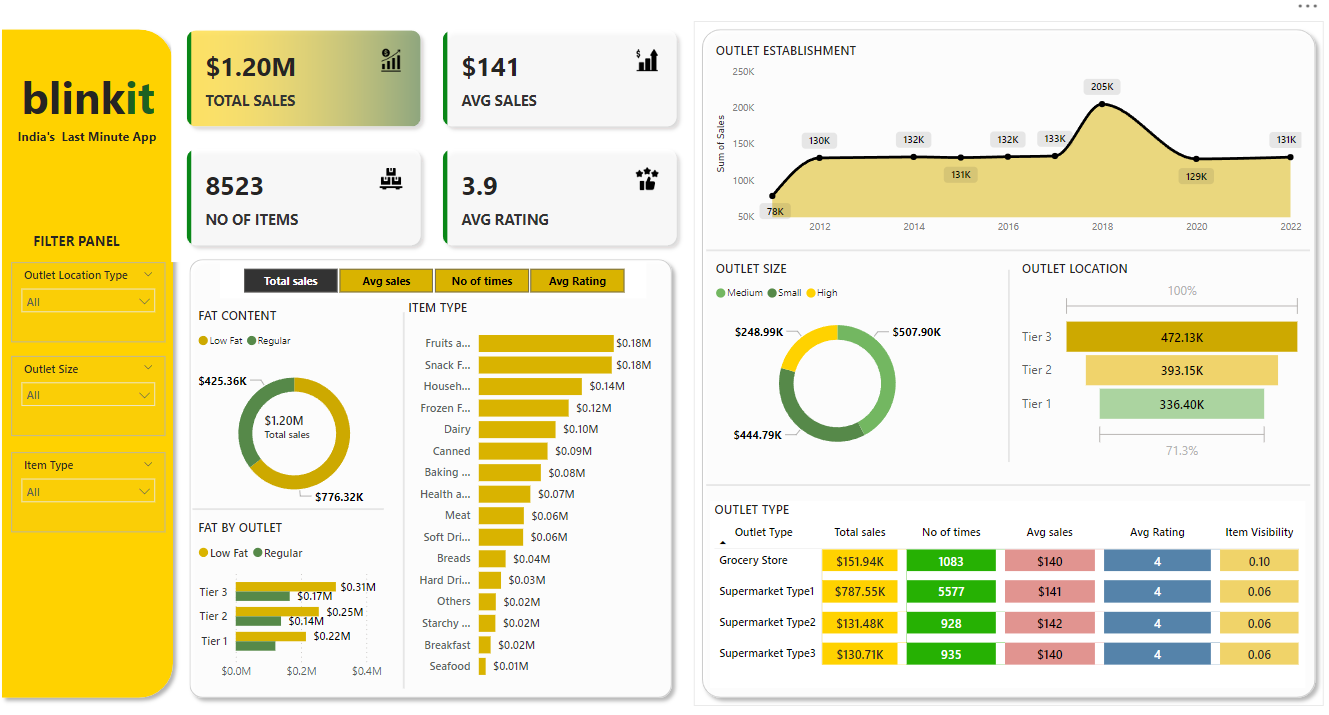

What the dashboard file says about the page in this screenshot:
{"tool":"powerbi","page":{"name":"Page 1","canvas":[1500,800],"ordinal":0},"visuals":[{"type":"shape","box":[36.8,27.3,204.4,746.7],"z":0},{"type":"textbox","box":[55.9,72.2,167.6,81.8],"z":1000},{"type":"textbox","box":[288.9,674.5,204.4,36.8],"z":2000},{"type":"textbox","box":[46.3,139,184,31.3],"z":3000},{"type":"cardVisual","fields":{"Data":["BlinkIT Grocery Data.Total sales","BlinkIT Grocery Data.Avg sales","BlinkIT Grocery Data.No of times","BlinkIT Grocery Data.Avg Rating"]},"box":[230.3,20.4,569.6,269.8],"z":4000},{"type":"shape","box":[241.2,278,543.7,496],"z":5000},{"type":"donutChart","title":"FAT CONTENT","fields":{"Y":["BlinkIT Grocery Data.Total sales"],"Category":["BlinkIT Grocery Data.Item Fat Content"]},"box":[254.8,339.3,219.4,230.3],"z":6000},{"type":"slicer","fields":{"Values":["Metrics.Metrics"]},"box":[283.4,290.2,464.7,39.5],"z":7000},{"type":"cardVisual","fields":{"Data":["BlinkIT Grocery Data.Total sales"]},"box":[314.8,436,92.7,61.3],"z":8000},{"type":"clusteredBarChart","title":"FAT BY OUTLET","fields":{"Y":["BlinkIT Grocery Data.Total sales"],"Category":["BlinkIT Grocery Data.Outlet Location Type"],"Series":["BlinkIT Grocery Data.Item Fat Content"]},"box":[254.8,569.6,220.7,185.3],"z":9000},{"type":"shape","box":[253.5,542.3,208.5,34.1],"z":10000},{"type":"shape","box":[474.2,344.8,19.1,410.2],"z":11000},{"type":"barChart","title":"ITEM TYPE","fields":{"Y":["BlinkIT Grocery Data.Total sales"],"Category":["BlinkIT Grocery Data.Item Type"]},"box":[483.7,329.8,275.3,425.1],"z":12000},{"type":"shape","box":[799.9,27.3,686.8,746.7],"z":13000},{"type":"lineChart","title":"OUTLET ESTABLISHMENT","fields":{"Y":["Sum(BlinkIT Grocery Data.Sales)"],"Category":["BlinkIT Grocery Data.Outlet Establishment Year"]},"box":[819,50.4,648.6,218],"z":14000},{"type":"shape","box":[813.5,260.3,658.2,34.1],"z":15000},{"type":"donutChart","title":"OUTLET SIZE","fields":{"Y":["BlinkIT Grocery Data.Total sales"],"Category":["BlinkIT Grocery Data.Outlet Size"]},"box":[819,287.5,275.3,224.8],"z":16000},{"type":"shape","box":[1133.3,298.6,19.4,209.7],"z":17000},{"type":"funnel","title":"OUTLET LOCATION","fields":{"Y":["Sum(BlinkIT Grocery Data.Sales)"],"Category":["BlinkIT Grocery Data.Outlet Location Type"]},"box":[1152.8,287.5,315.3,223.6],"z":18000},{"type":"shape","box":[813.9,516.7,658.3,33.3],"z":19000},{"type":"pivotTable","title":"OUTLET TYPE","fields":{"Rows":["BlinkIT Grocery Data.Outlet Type"],"Values":["BlinkIT Grocery Data.Total sales","BlinkIT Grocery Data.No of times","BlinkIT Grocery Data.Avg sales","BlinkIT Grocery Data.Avg Rating","Avg(BlinkIT Grocery Data.Item Visibility)"]},"box":[818.1,550,648.6,204.2],"z":20000},{"type":"slicer","fields":{"Values":["BlinkIT Grocery Data.Outlet Location Type"]},"box":[55.9,290.2,167.6,87.2],"z":21000},{"type":"slicer","fields":{"Values":["BlinkIT Grocery Data.Outlet Size"]},"box":[55.9,392.4,167.6,87.2],"z":22000},{"type":"slicer","fields":{"Values":["BlinkIT Grocery Data.Item Type"]},"box":[55.9,497.4,167.6,87.2],"z":23000},{"type":"textbox","box":[74.9,252.1,117.2,31.3],"z":23001}]}

Visuals, with their boxes in screenshot pixels (x1, y1, x2, y2), scaled from the page's 1500x800 canvas onto the 1329x715 screenshot:
shape: 33 24 214 692
textbox: 50 65 198 138
textbox: 256 603 437 636
textbox: 41 124 204 152
cardVisual - BlinkIT Grocery Data.Total sales x BlinkIT Grocery Data.Avg sales: 204 18 709 259
shape: 214 248 695 692
"FAT CONTENT" donutChart: 226 303 420 509
slicer - Metrics.Metrics: 251 259 663 295
cardVisual - BlinkIT Grocery Data.Total sales: 279 390 361 444
"FAT BY OUTLET" clusteredBarChart: 226 509 421 675
shape: 225 485 409 515
shape: 420 308 437 675
"ITEM TYPE" barChart: 429 295 672 675
shape: 709 24 1317 692
"OUTLET ESTABLISHMENT" lineChart: 726 45 1300 240
shape: 721 233 1304 263
"OUTLET SIZE" donutChart: 726 257 970 458
shape: 1004 267 1021 454
"OUTLET LOCATION" funnel: 1021 257 1301 457
shape: 721 462 1304 492
"OUTLET TYPE" pivotTable: 725 492 1299 674
slicer - BlinkIT Grocery Data.Outlet Location Type: 50 259 198 337
slicer - BlinkIT Grocery Data.Outlet Size: 50 351 198 429
slicer - BlinkIT Grocery Data.Item Type: 50 445 198 522
textbox: 66 225 170 253
